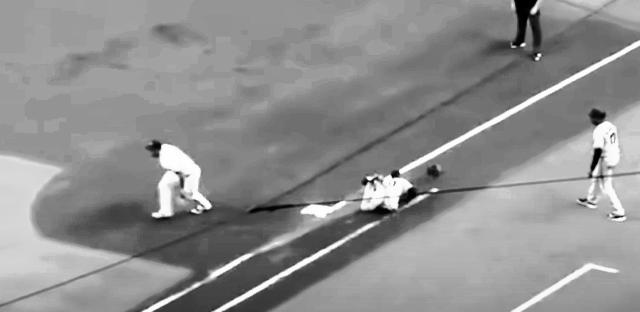jatuh: (355, 164, 421, 218)
